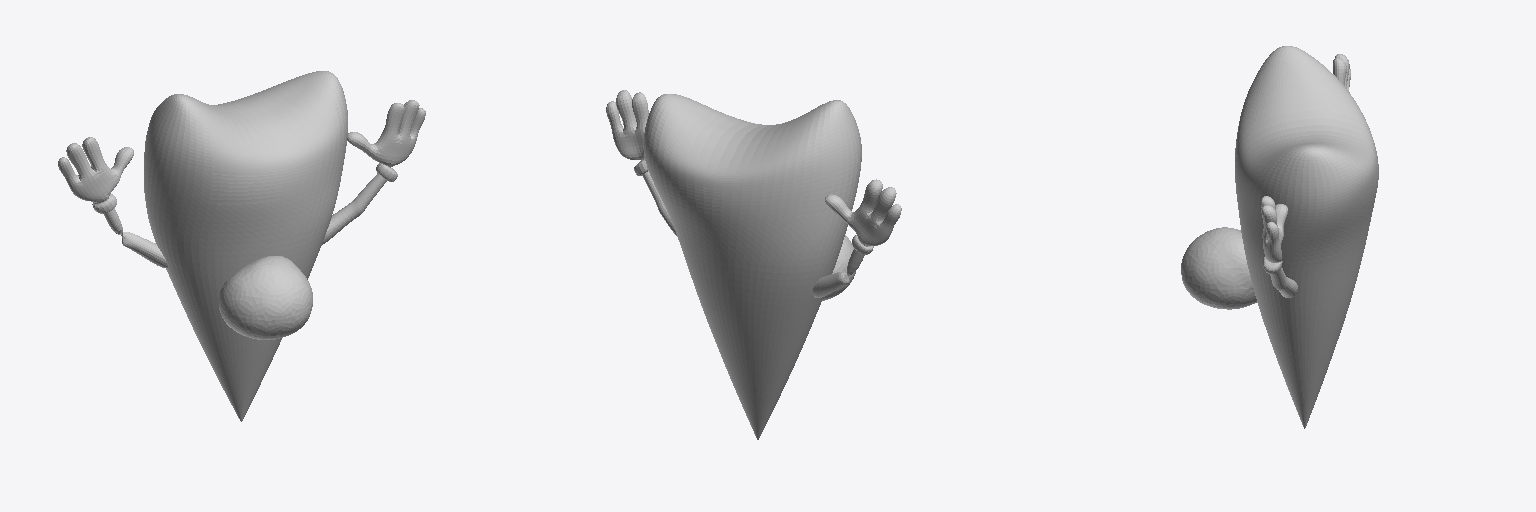
Rendered from java-duke8.obj.
3 renders of one model, left to right at view 1: azimuth 30°, elevation 25°; view 2: azimuth 150°, elevation 25°; view 3: azimuth 270°, elevation 25°, orthographic.
Parts seen in each view (by area): view 1: javadude, javadude_hands, javadude_nase; view 2: javadude, javadude_hands, javadude_nase; view 3: javadude, javadude_nase, javadude_hands.
Part boxes in pixels (x1,y1,x2,y2): javadude: (144,71,347,421); javadude_hands: (58,100,425,268); javadude_nase: (219,256,312,339); javadude: (643,94,861,439); javadude_hands: (606,90,901,297); javadude_nase: (822,235,855,300); javadude: (1235,46,1378,428); javadude_nase: (1181,227,1256,309); javadude_hands: (1261,54,1350,297).
Bounding box in the file's own units: 4.04 × 4.08 × 2.09.